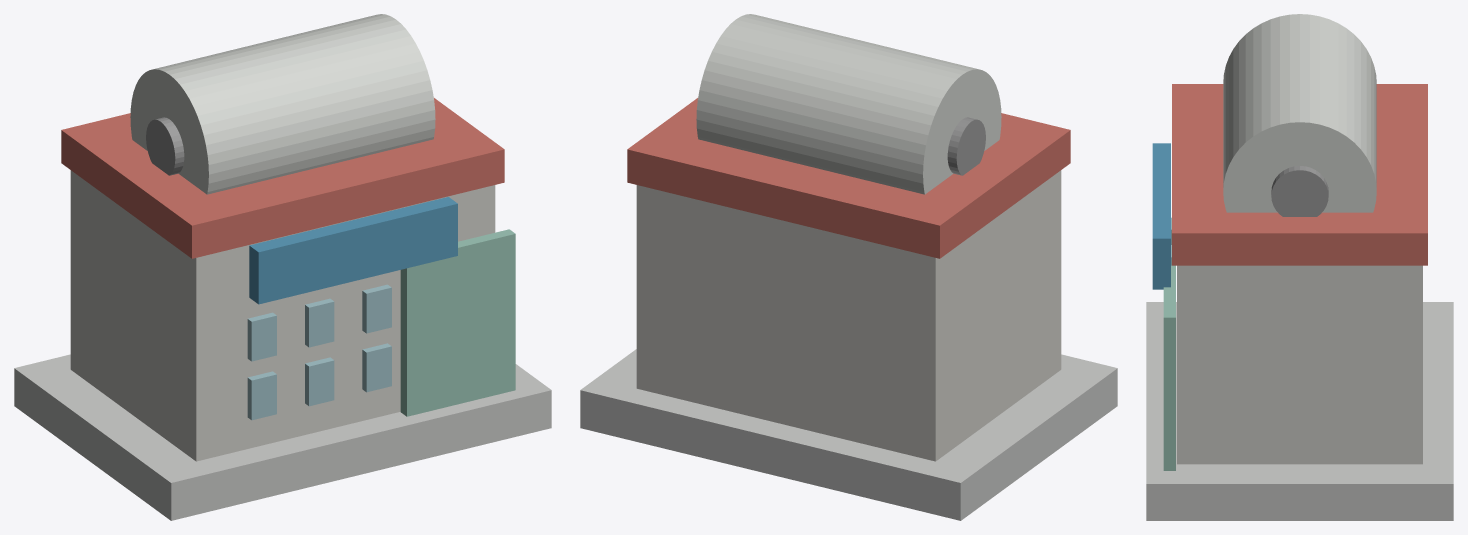
File: paper_hq.glb
3 views of the same model, side by side, from view 1: azimuth 30°, elevation 25°; view 2: azimuth 150°, elevation 25°; view 3: azimuth 270°, elevation 25° (orthographic). The views are drawn at different scales.
Visible parts, largest first — view 1: factory, paper_roll, base, red_roof, paper_strip, paper_sign, paper_core, window_0_2, window_1_2, window_1_0, window_0_0, window_0_1 (+1 smaller); view 2: factory, paper_roll, base, red_roof, paper_core; view 3: factory, red_roof, paper_roll, base, paper_sign, paper_strip, paper_core.
Part boxes in pixels (box(x1,y1,x2,y2)): factory: box(70, 170, 495, 461); paper_roll: box(130, 14, 435, 194); base: box(14, 354, 551, 520); red_roof: box(61, 98, 504, 258); paper_strip: box(400, 229, 515, 416); paper_sign: box(249, 197, 457, 304); paper_core: box(146, 117, 184, 175); window_0_2: box(362, 343, 391, 392); window_1_2: box(362, 284, 391, 333); window_1_0: box(247, 312, 276, 361); window_0_0: box(247, 371, 276, 420); window_0_1: box(305, 357, 334, 406); factory: box(636, 170, 1061, 461); paper_roll: box(696, 14, 1001, 194); base: box(580, 349, 1117, 520); red_roof: box(627, 98, 1070, 258); paper_core: box(947, 117, 985, 175); factory: box(1177, 265, 1422, 464); red_roof: box(1172, 84, 1427, 265); paper_roll: box(1223, 14, 1376, 212); base: box(1146, 302, 1453, 520); paper_sign: box(1152, 143, 1170, 289); paper_strip: box(1163, 265, 1175, 470); paper_core: box(1271, 166, 1328, 216).
Size of the model in its own units: 4.2 by 3.9 by 3.
